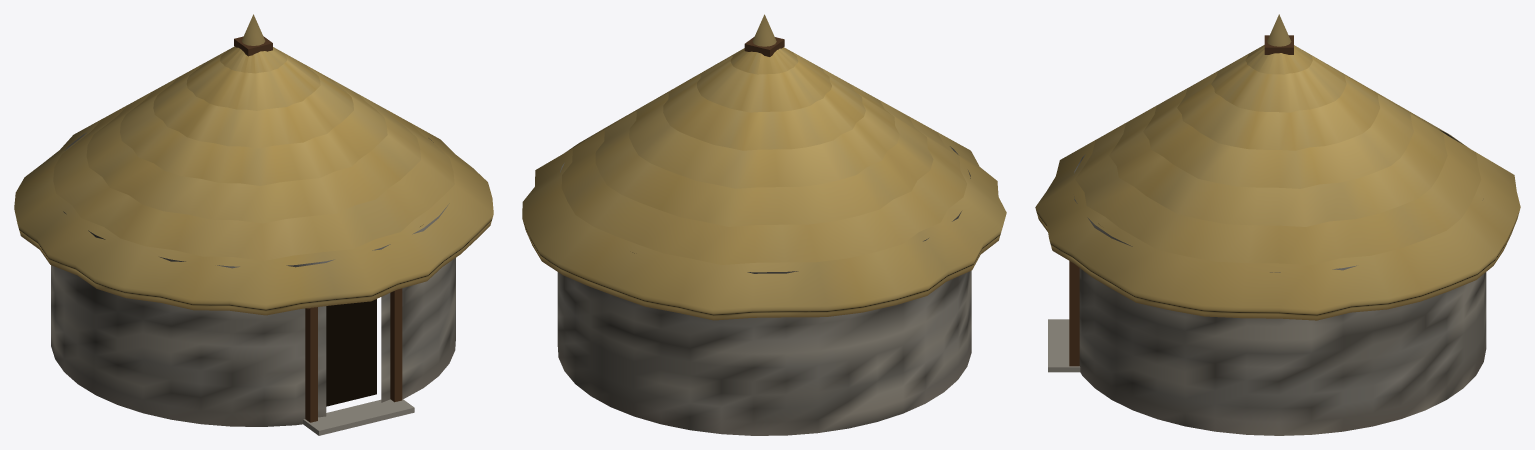
The model's file is roundhouse-stone-4.glb.
3 renders of one model, left to right at view 1: azimuth 30°, elevation 25°; view 2: azimuth 150°, elevation 25°; view 3: azimuth 270°, elevation 25°, orthographic. The views are drawn at different scales.
Visible parts, largest first — view 1: roundhouse-stone-4; view 2: roundhouse-stone-4; view 3: roundhouse-stone-4.
Boxes of the visible parts, x1,y1,x2,y2 form: roundhouse-stone-4: (14,14,493,435); roundhouse-stone-4: (522,14,1006,435); roundhouse-stone-4: (1035,14,1520,435).
Bounding box in the file's own units: 4.3 × 3.27 × 4.3.
